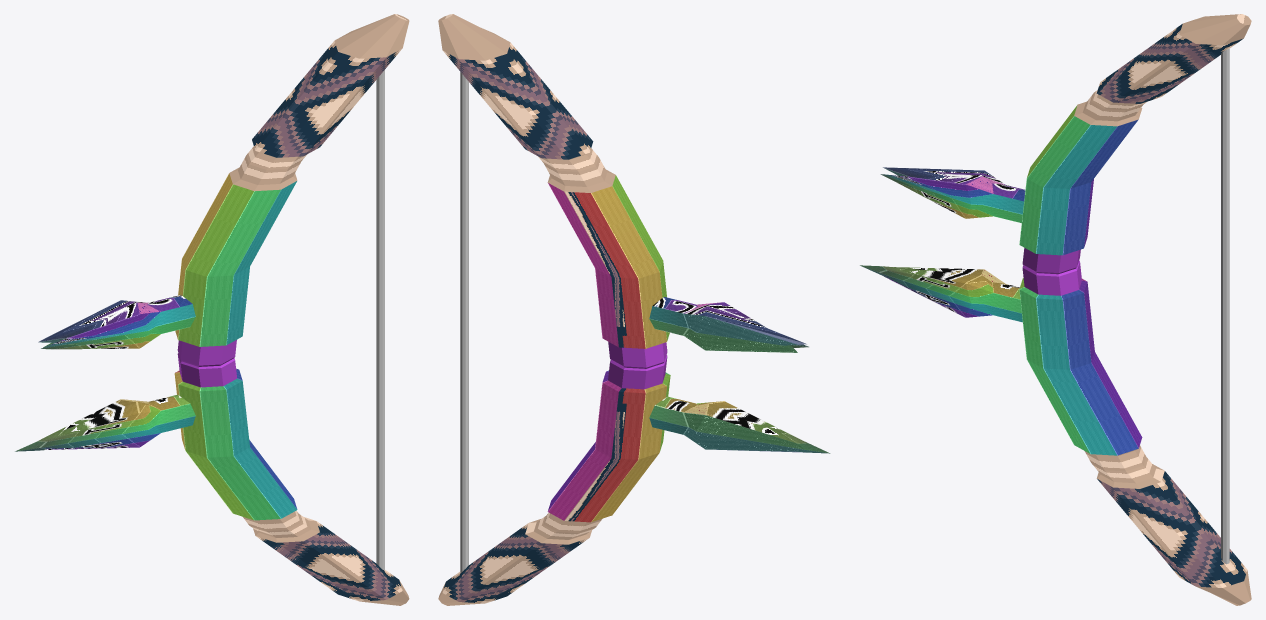
The model's file is bow.glb.
3 renders of one model, left to right at view 1: azimuth 30°, elevation 25°; view 2: azimuth 150°, elevation 25°; view 3: azimuth 330°, elevation 25°, orthographic.
Parts seen in each view (by area): view 1: Bow, Bow_invert, Decor, Bowstring, Decor_invert, Bowstring_invert; view 2: Bow, Bow_invert, Decor, Bowstring, Decor_invert, Bowstring_invert; view 3: Bow, Bow_invert, Decor, Bowstring, Decor_invert, Bowstring_invert.
Part boxes in pixels (box(x1,y1,x2,y2)): Bow: box(174, 14, 409, 605); Bow_invert: box(175, 15, 408, 604); Decor: box(15, 295, 195, 451); Bowstring: box(376, 70, 384, 570); Decor_invert: box(19, 295, 195, 450); Bowstring_invert: box(376, 71, 384, 570); Bow: box(438, 14, 670, 605); Bow_invert: box(438, 14, 669, 605); Decor: box(649, 297, 829, 453); Bowstring: box(460, 72, 468, 572); Decor_invert: box(649, 298, 828, 452); Bowstring_invert: box(460, 73, 468, 571); Bow: box(1019, 14, 1251, 605); Bow_invert: box(1019, 15, 1250, 605); Decor: box(860, 167, 1025, 322); Bowstring: box(1221, 49, 1229, 563); Decor_invert: box(861, 167, 1025, 321); Bowstring_invert: box(1221, 49, 1229, 563).
Bounding box in the file's own units: 3.07 × 4.41 × 0.478.
Materials: 10 (6 with a texture image).
